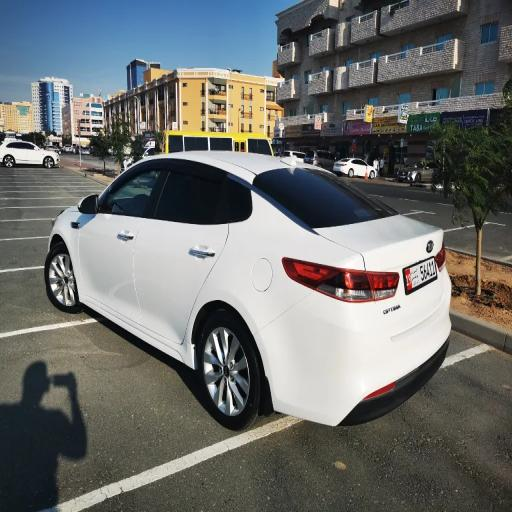license-plates: (405, 257, 437, 292)
